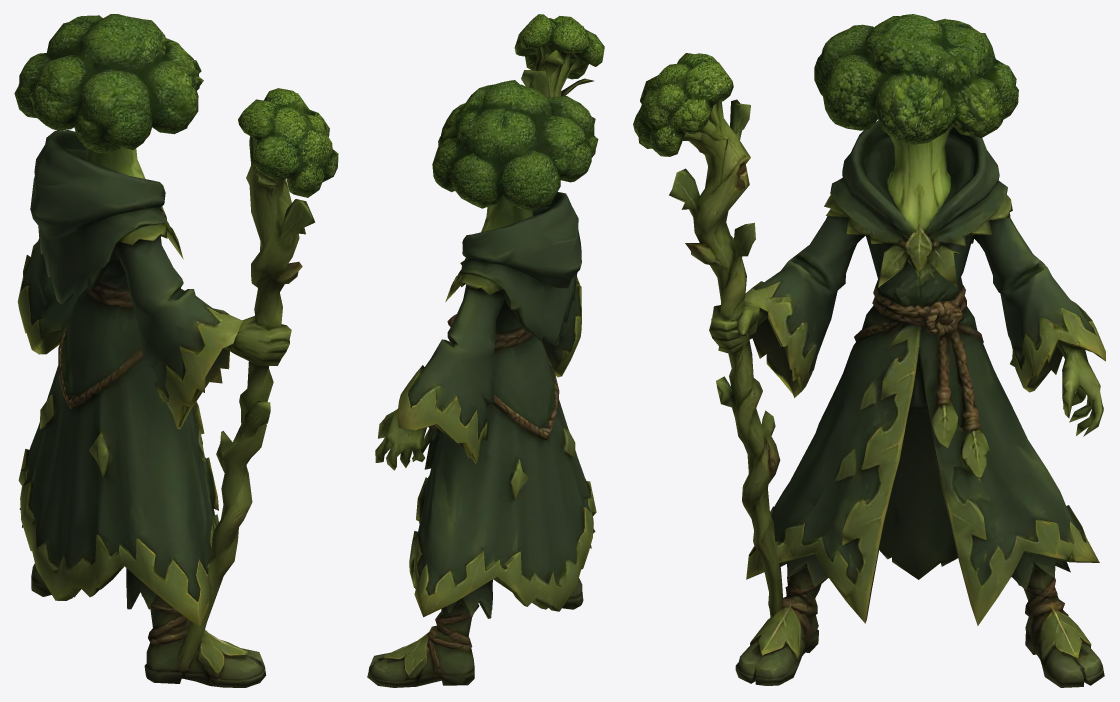
File: stage1.glb
3 renders of one model, left to right at view 1: azimuth 30°, elevation 25°; view 2: azimuth 150°, elevation 25°; view 3: azimuth 270°, elevation 25°, orthographic. The views are drawn at different scales.
Parts seen in each view (by area): view 1: tripo_node_4bdecd0f-2123-4984-840f-ae767e9922bf; view 2: tripo_node_4bdecd0f-2123-4984-840f-ae767e9922bf; view 3: tripo_node_4bdecd0f-2123-4984-840f-ae767e9922bf.
Boxes of the visible parts, x1,y1,x2,y2 form: tripo_node_4bdecd0f-2123-4984-840f-ae767e9922bf: (14, 14, 338, 687); tripo_node_4bdecd0f-2123-4984-840f-ae767e9922bf: (367, 14, 604, 687); tripo_node_4bdecd0f-2123-4984-840f-ae767e9922bf: (633, 14, 1105, 687).
Size of the model in its own units: 0.3174 by 1 by 0.6774.
Materials: 1 (1 with a texture image).
